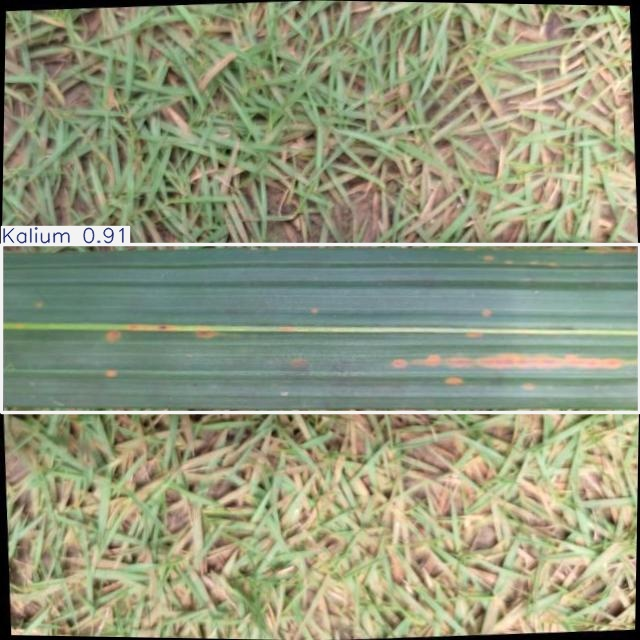Kalium: (1, 244, 639, 413)
